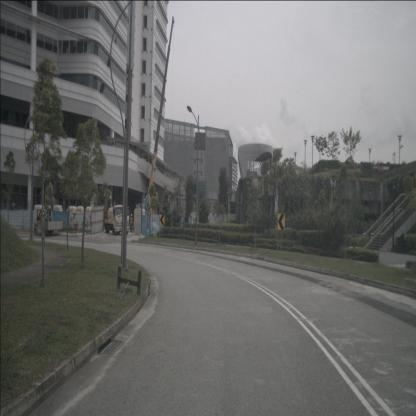vehicle-truck: (104, 205, 130, 235)
